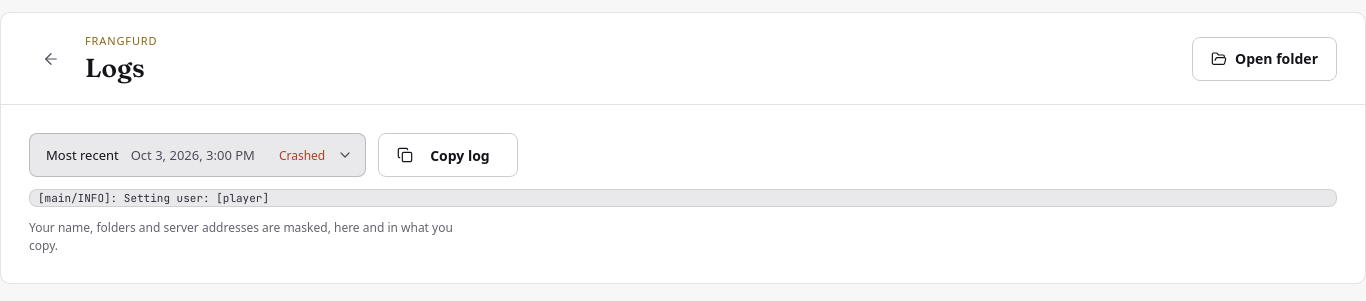
LogsPanel › a past run › shows Go's refusal of a file in the viewer and keeps the dropdown
Click the button named "Choose a log". click: (198, 155)
box: [29, 133, 366, 177]
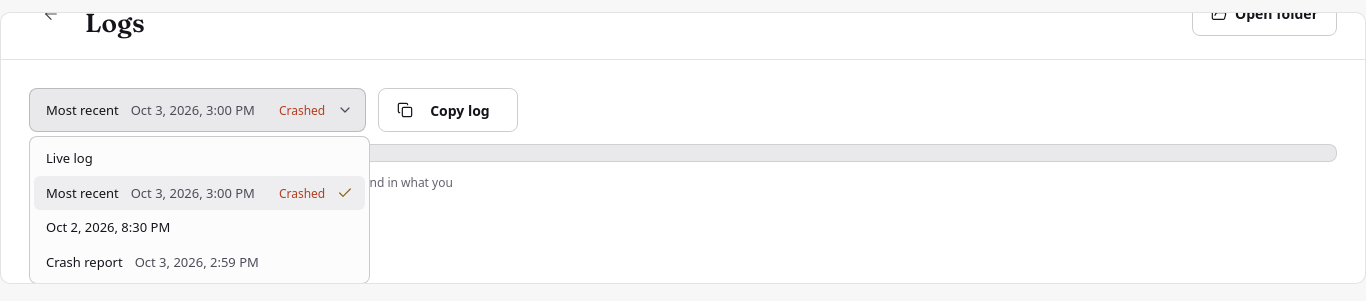
Click the option "Oct 2, 2026, 8:30 PM". click: (108, 227)
box: [46, 218, 170, 236]
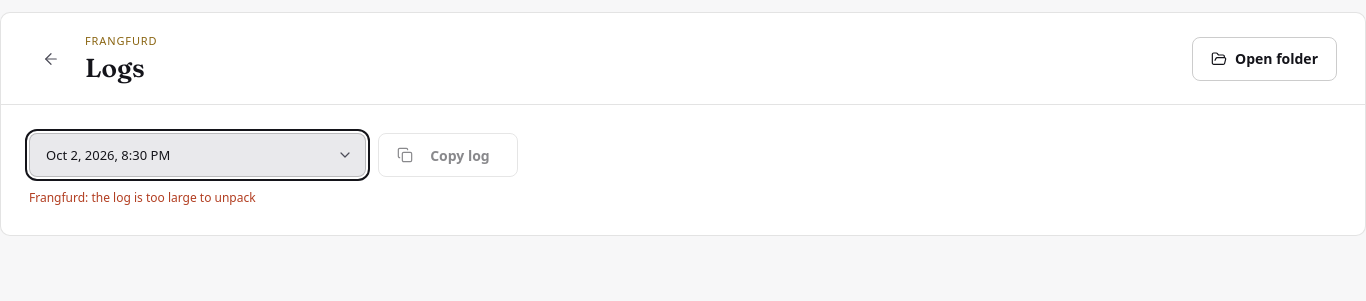
Expected: the button named "Choose a log" is shown, [29, 133, 366, 177]
Now the message shows "too large to unpack", box [29, 189, 256, 206]
